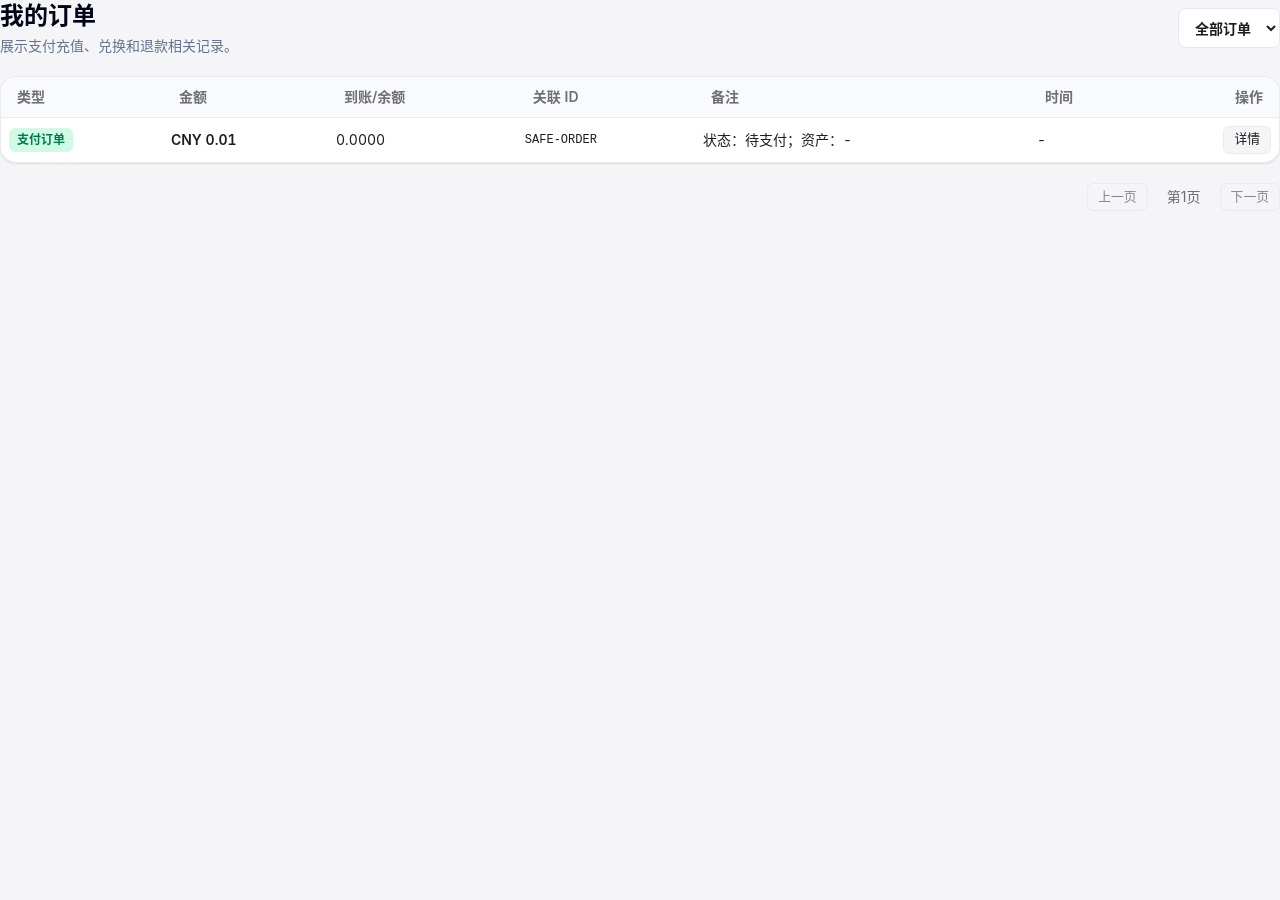
OrdersPage › never opens a payment for status=pending url=
Click the button with aria-label "查看订单 SAFE-ORDER": (1247, 140) [1223,126,1271,154]
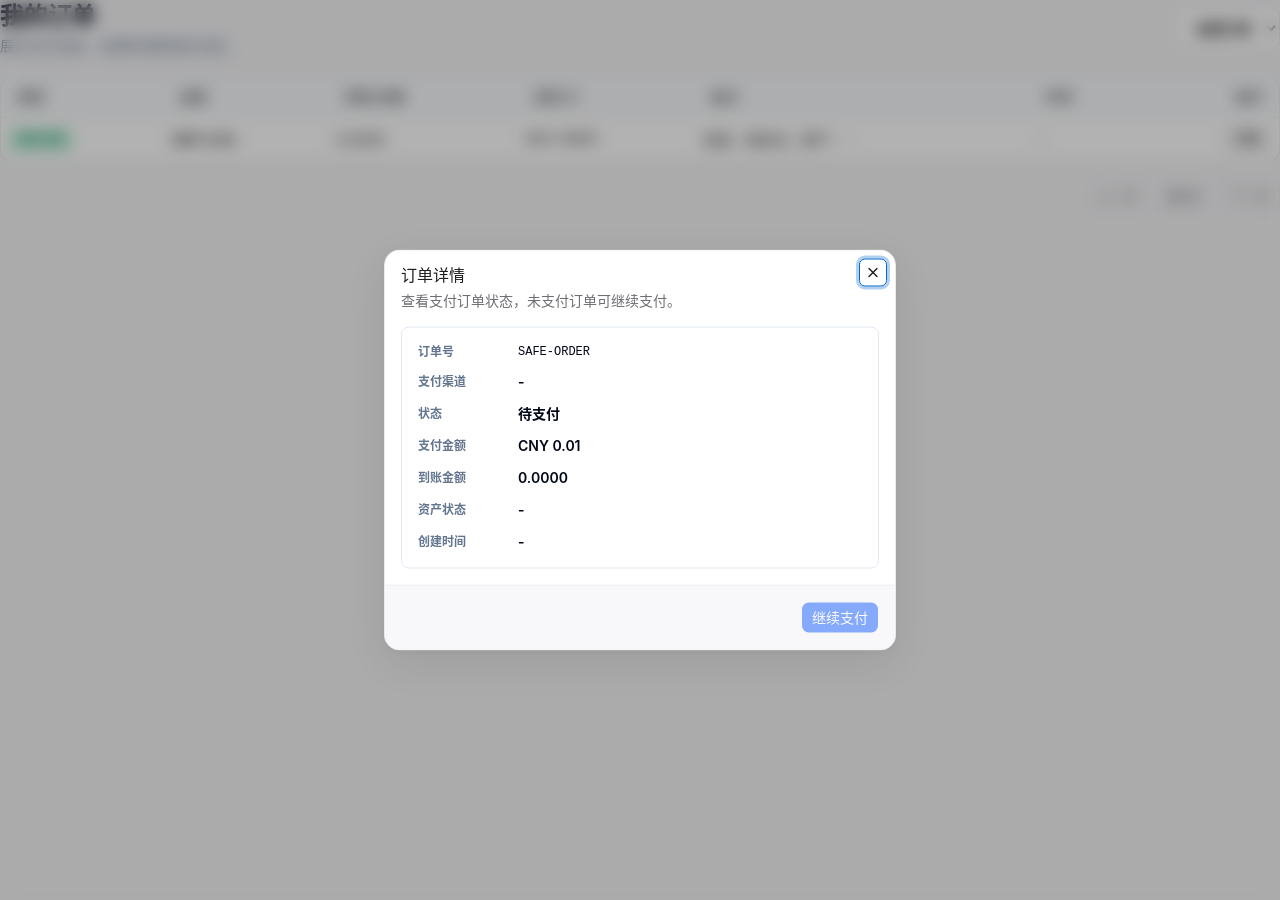
Check: the text "CNY 0.01" is shown, box [518,436,580,454]
Check: the text "0.0000" is shown, box [518,468,568,486]
Check: the button "继续支付" is disabled, box [801,602,879,634]
